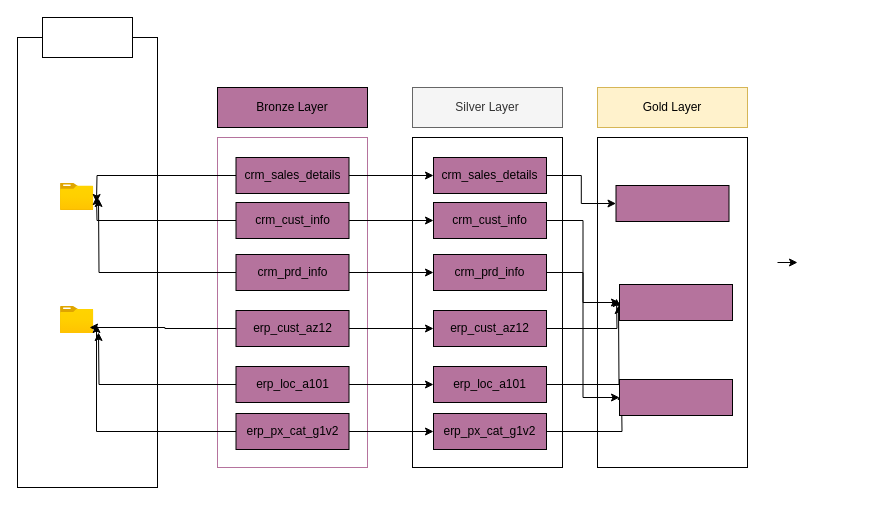
Some shapes in this 887 by 505 pixel diagram are drawn without their labels. Here are the shapes that lost their labels. From the top down, the box of each, then its label:
(42, 16, 132, 58): Sources
(60, 183, 93, 210): CRM
(615, 184, 729, 222): fact_sales
(60, 306, 93, 333): ERP
(618, 284, 732, 320): dim_customers
(618, 378, 732, 416): dim_prodcuts
